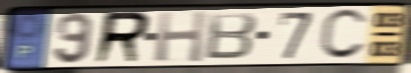7: (277, 10, 315, 60)
9: (53, 11, 95, 66)
B: (203, 10, 259, 61)
C: (317, 7, 370, 63)
H: (153, 9, 209, 64)
R: (91, 9, 154, 66)
